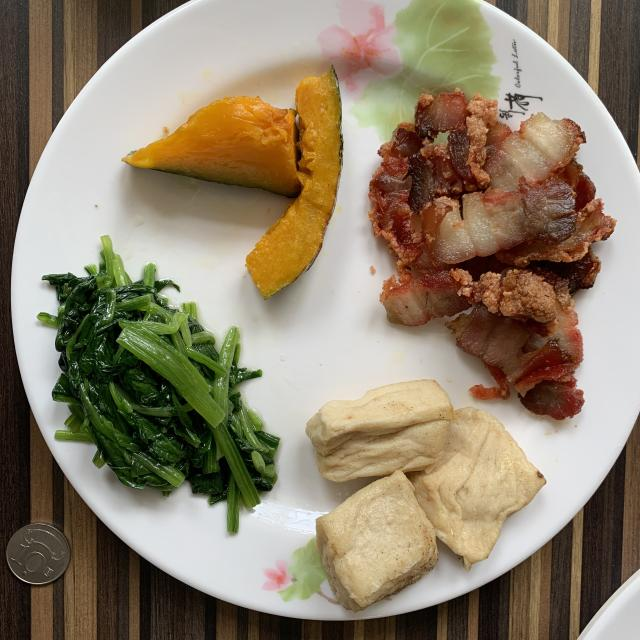coin: (6, 522, 70, 585)
creamy tofu -without sauce-: (306, 380, 545, 611)
mustard greens: (39, 236, 279, 532)
pumpkin: (122, 68, 342, 298)
red grilled pork: (369, 90, 615, 420)
